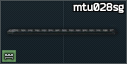M870 Leapers UTG PRO MTU-028SG rail: (0, 0, 127, 64)
